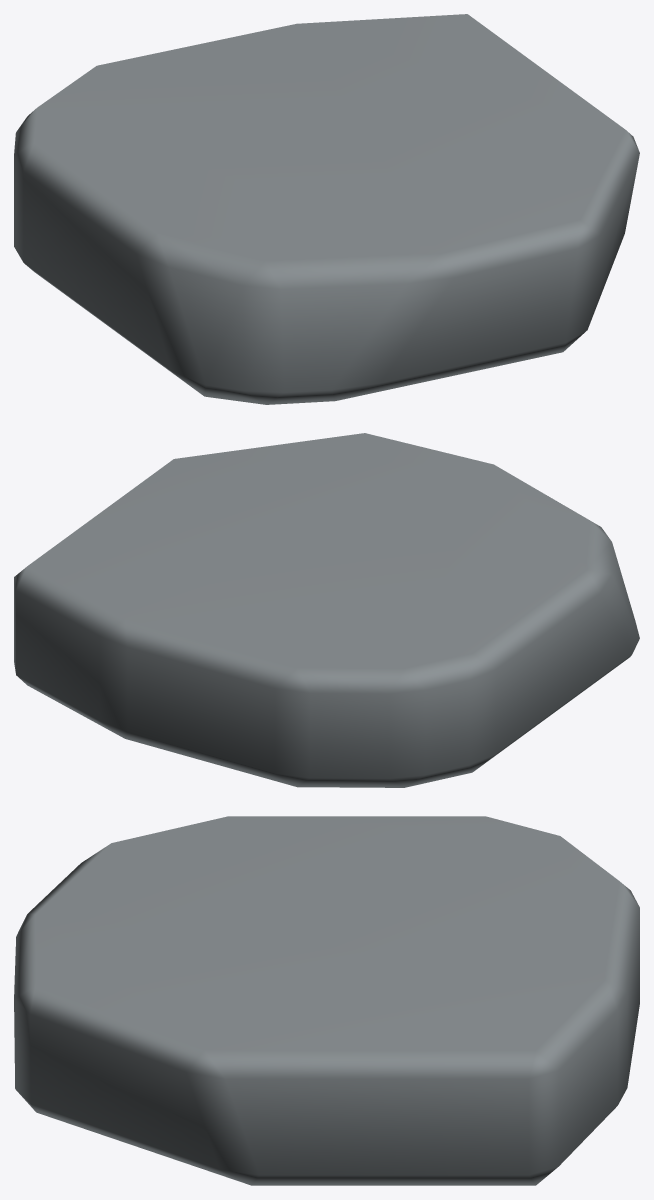
Rendered from obstacle_9_001.glb.
3 renders of one model, top to bottom at view 1: azimuth 30°, elevation 25°; view 2: azimuth 150°, elevation 25°; view 3: azimuth 270°, elevation 25°, orthographic. The views are drawn at different scales.
Visible parts, largest first — view 1: obstacle_9_001; view 2: obstacle_9_001; view 3: obstacle_9_001.
Part boxes in pixels (<box>): obstacle_9_001: <box>14,14,639,404</box>; obstacle_9_001: <box>14,433,639,787</box>; obstacle_9_001: <box>14,816,639,1185</box>.
Bounding box in the file's own units: 2.48 × 0.62 × 2.6.
Materials: 1 (1 with a texture image).
